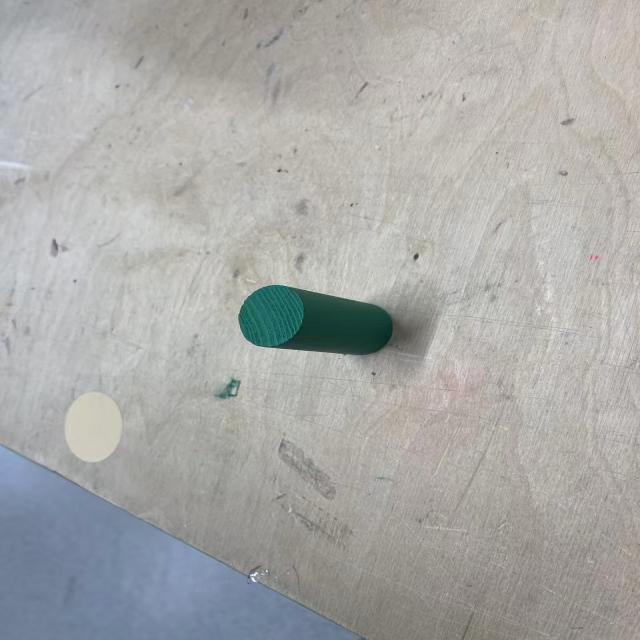green_cylinder: (237, 283, 395, 357)
